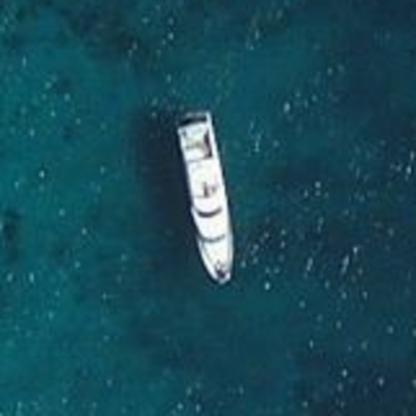ship: (164, 104, 248, 293)
